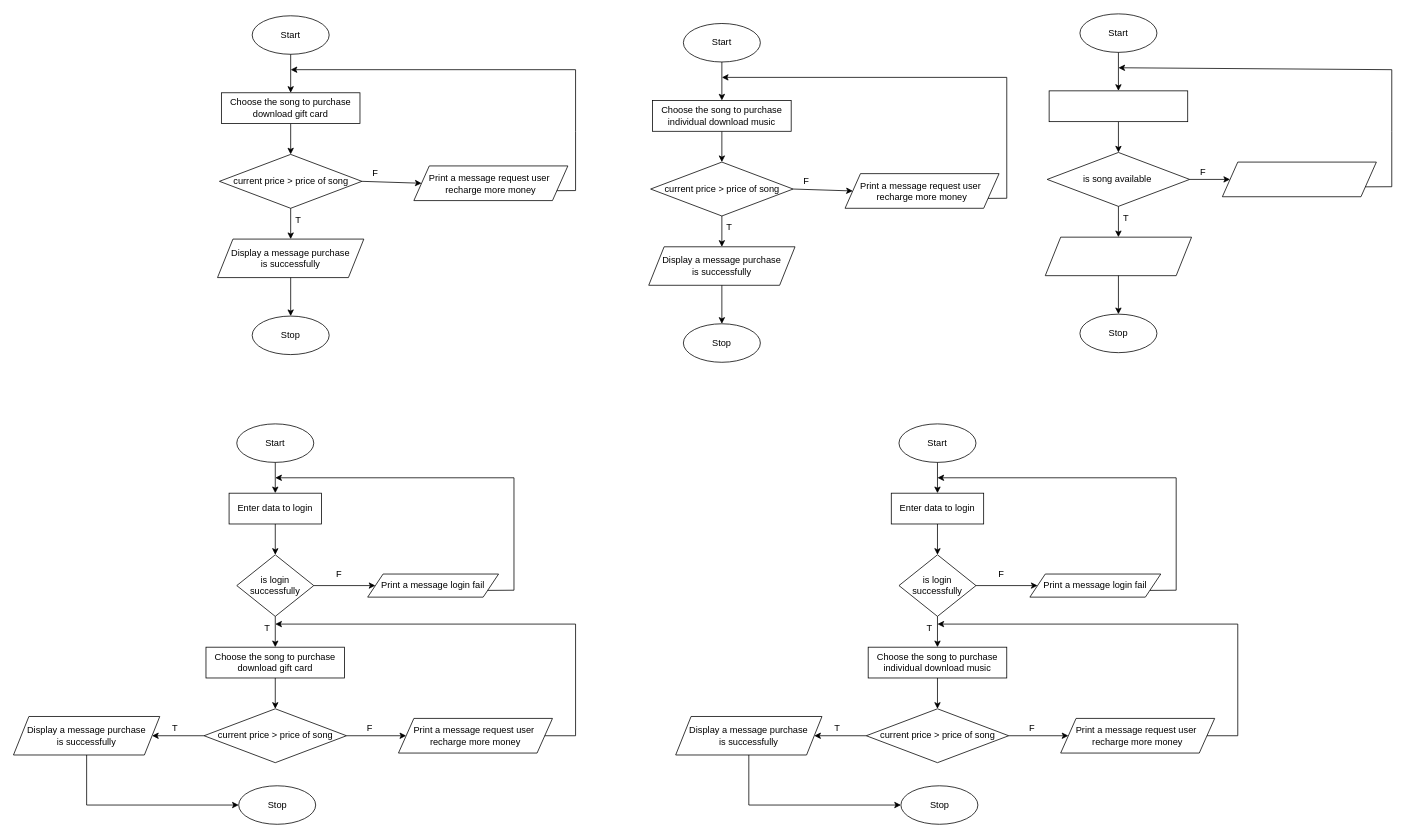
Some shapes in this 1411 by 838 pixel diagram are drawn without their labels. Each missing label, with the centre of its shape:
Choose the song to listen: point 1118,106
Listening to that song: point 1118,256
Print a message the song is not available: point 1299,179
